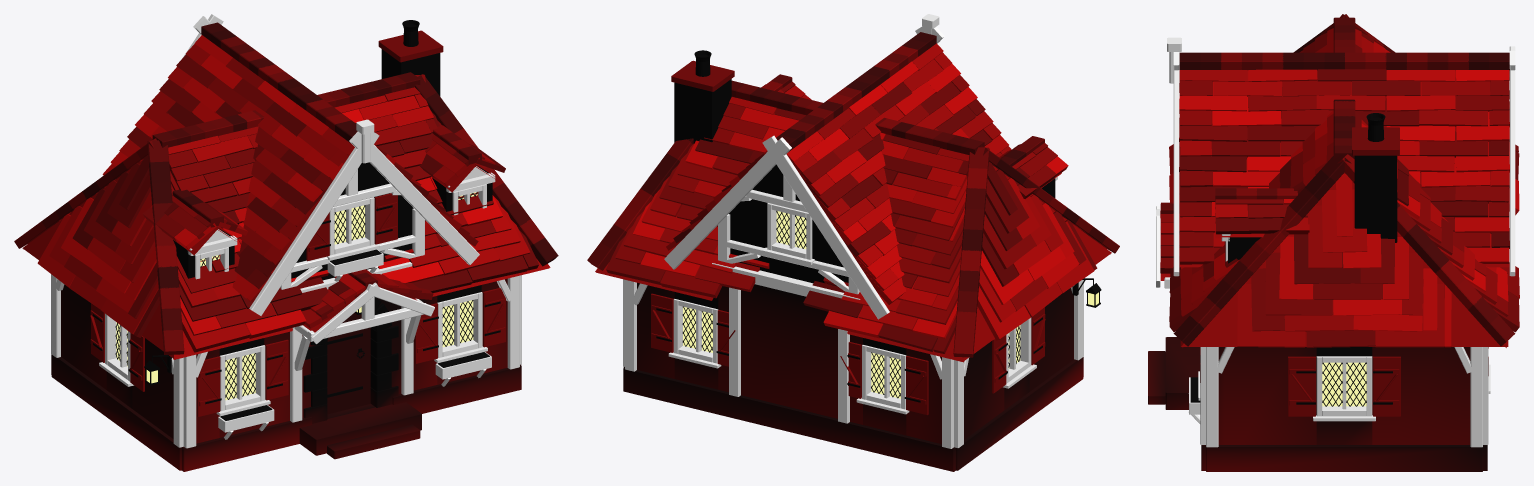
File: SilverbrookCottage4.fbx
The picture shows the model from 3 angles, left to right: view 1: azimuth 30°, elevation 25°; view 2: azimuth 150°, elevation 25°; view 3: azimuth 270°, elevation 25°; orthographic projection. The views are drawn at different scales.
Visible parts, largest first — view 1: SM_SBCottage4_Roof, SM_SBCottage4_Masonry, SM_SBCottage4_Timber, SM_SBCottage4_Details; view 2: SM_SBCottage4_Roof, SM_SBCottage4_Masonry, SM_SBCottage4_Timber, SM_SBCottage4_Details; view 3: SM_SBCottage4_Roof, SM_SBCottage4_Masonry, SM_SBCottage4_Timber, SM_SBCottage4_Details.
Part boxes in pixels (x1=…): SM_SBCottage4_Roof: x1=14, y1=22, x2=558, y2=359; SM_SBCottage4_Masonry: x1=51, y1=30, x2=521, y2=471; SM_SBCottage4_Timber: x1=51, y1=14, x2=521, y2=448; SM_SBCottage4_Details: x1=90, y1=20, x2=505, y2=420; SM_SBCottage4_Roof: x1=587, y1=32, x2=1119, y2=362; SM_SBCottage4_Masonry: x1=623, y1=60, x2=1083, y2=471; SM_SBCottage4_Timber: x1=623, y1=14, x2=1083, y2=448; SM_SBCottage4_Details: x1=651, y1=50, x2=1101, y2=414; SM_SBCottage4_Roof: x1=1160, y1=14, x2=1519, y2=347; SM_SBCottage4_Masonry: x1=1148, y1=127, x2=1487, y2=471; SM_SBCottage4_Timber: x1=1156, y1=37, x2=1515, y2=447; SM_SBCottage4_Details: x1=1190, y1=113, x2=1488, y2=416.
Size of the model in its own units: 791 by 598 by 591.
